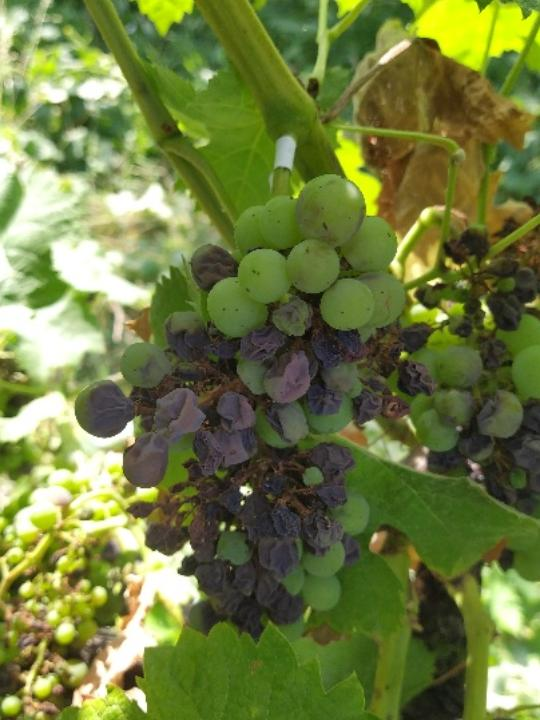grape: (70, 172, 437, 641), (389, 162, 540, 519)
